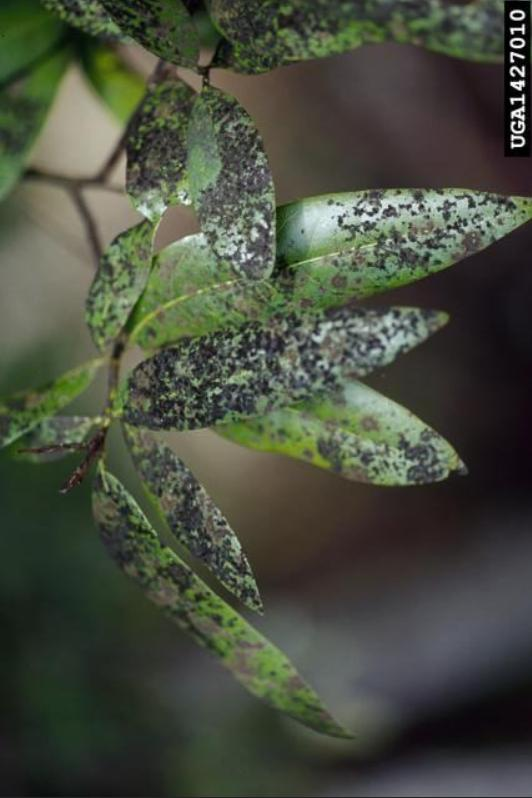soot dew: (93, 464, 350, 737), (123, 307, 445, 430), (125, 426, 261, 611), (329, 188, 531, 297), (209, 0, 502, 74), (188, 84, 275, 279), (126, 65, 195, 220), (313, 426, 462, 484)
